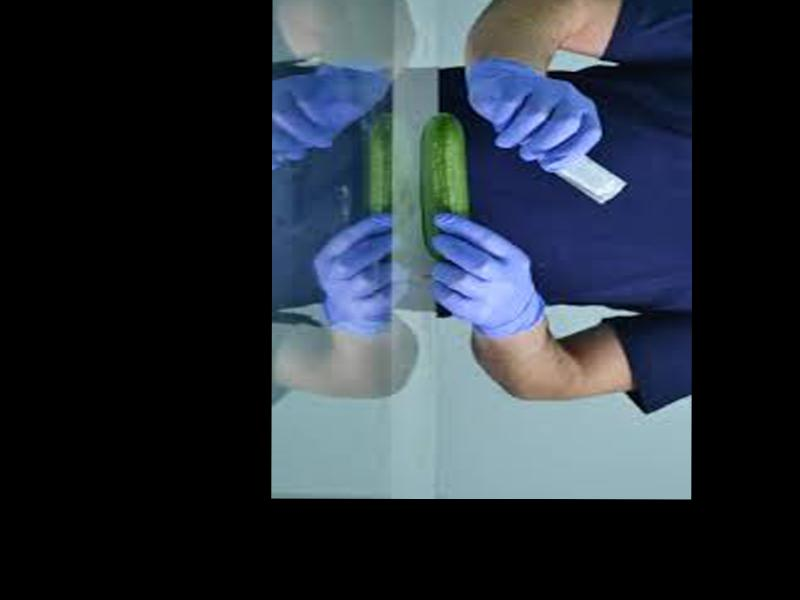Cucumber: (419, 112, 469, 259)
